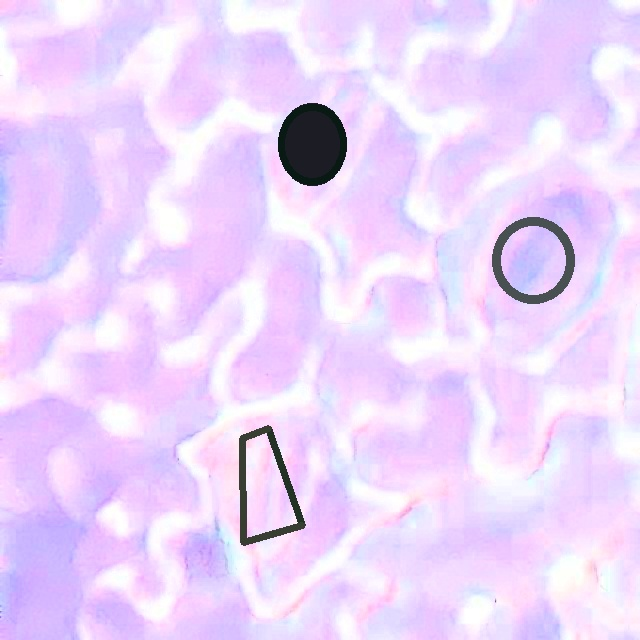open: (239, 425, 305, 544), (491, 216, 575, 305), (278, 103, 347, 184)
